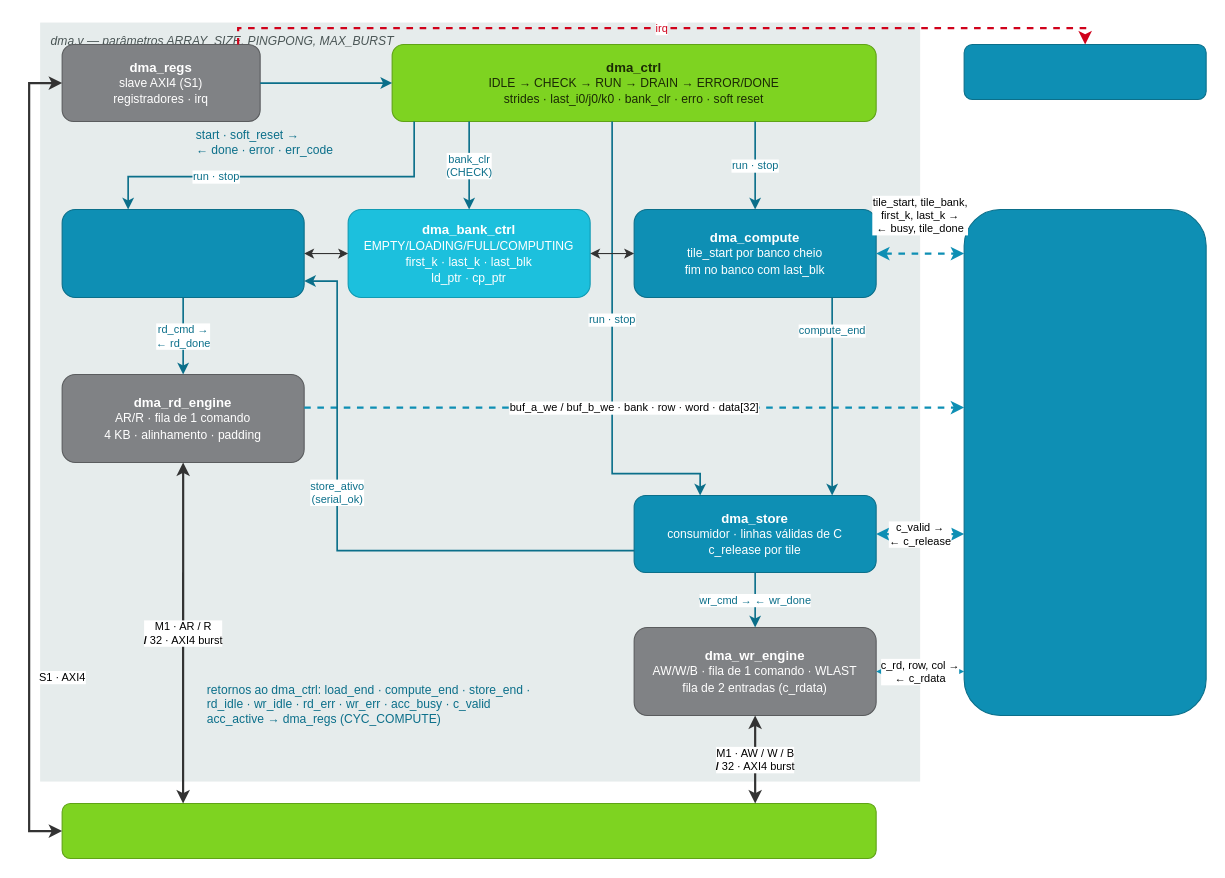
The diagram is 1225 pixels wide and 878 high, and some of its shapes have lost their labels. The shapes that lost their labels are listed below. From the top down, each one's box as (x1, y1, x2, y2) in pixels, then its label:
(963, 43, 1206, 100): CPU RV32I
(61, 208, 304, 298): dma_load produtor · itera i0 → j0 → k0 T linhas de A + T de B
(963, 208, 1206, 716): Acelerador buf A/B × 2 bancos malha T×T banco C
(61, 802, 876, 859): axi_xbar (AXI4)
